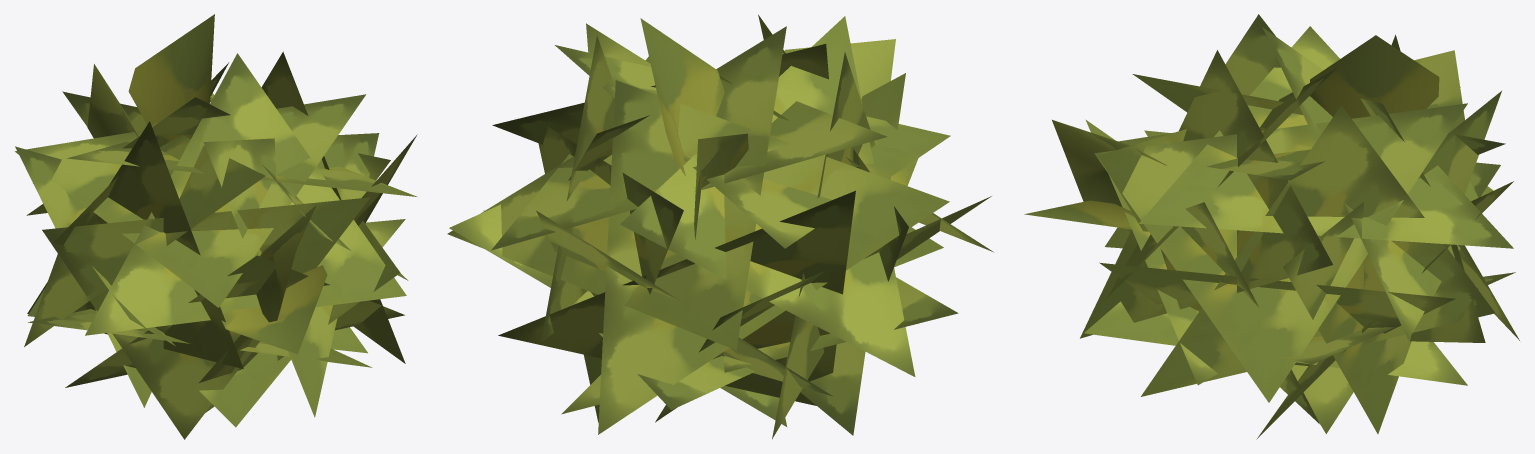
File: Raspberry_Bush_1a.glb
The picture shows the model from 3 angles, left to right: view 1: azimuth 30°, elevation 25°; view 2: azimuth 150°, elevation 25°; view 3: azimuth 270°, elevation 25°; orthographic projection. The views are drawn at different scales.
Parts seen in each view (by area): view 1: Raspberry_Bush_1a; view 2: Raspberry_Bush_1a; view 3: Raspberry_Bush_1a.
Boxes of the visible parts, x1=… form: Raspberry_Bush_1a: x1=15, y1=14, x2=417, y2=439; Raspberry_Bush_1a: x1=447, y1=14, x2=993, y2=439; Raspberry_Bush_1a: x1=1024, y1=14, x2=1519, y2=439.
Bounding box in the file's own units: 0.9958 × 0.8803 × 1.01.
1 material, 1 textured.
